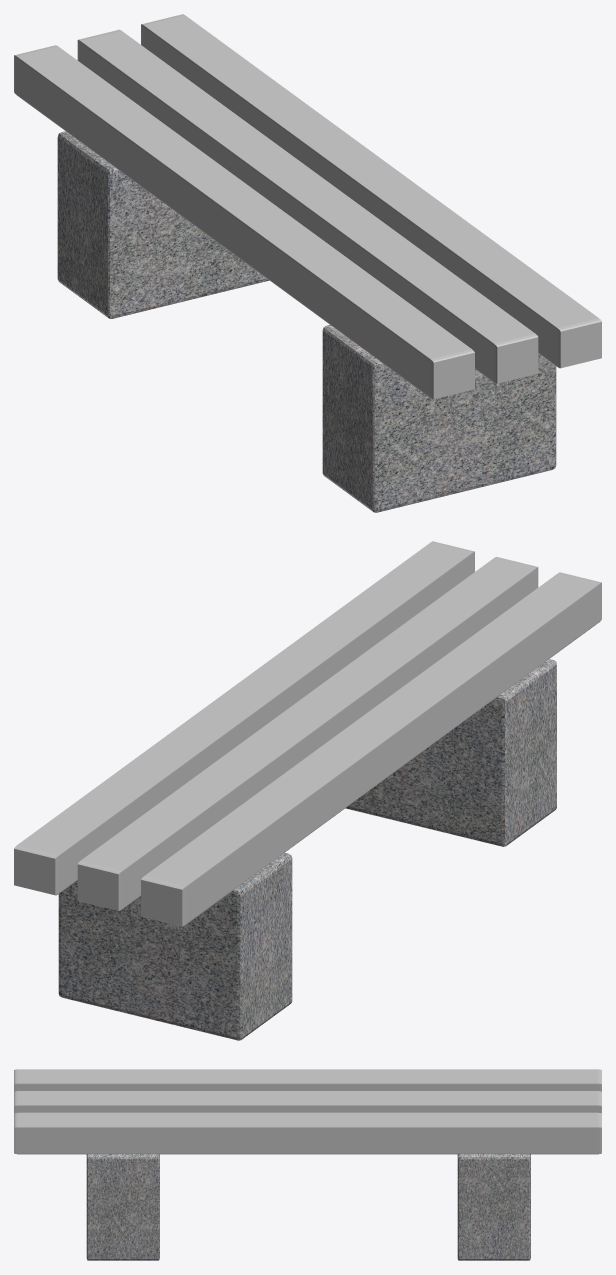
File: bennti.fbx
The picture shows the model from 3 angles, top to bottom: view 1: azimuth 30°, elevation 25°; view 2: azimuth 150°, elevation 25°; view 3: azimuth 270°, elevation 25°; orthographic projection. The views are drawn at different scales.
Visible parts, largest first — view 1: bennti; view 2: bennti; view 3: bennti.
Part boxes in pixels (<box>): bennti: <box>14,14,601,512</box>; bennti: <box>14,541,601,1040</box>; bennti: <box>14,1069,601,1260</box>.
Bounding box in the file's own units: 200 × 197 × 791.
